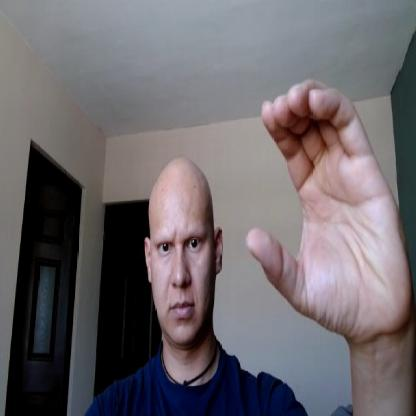C: (245, 78, 411, 337)
